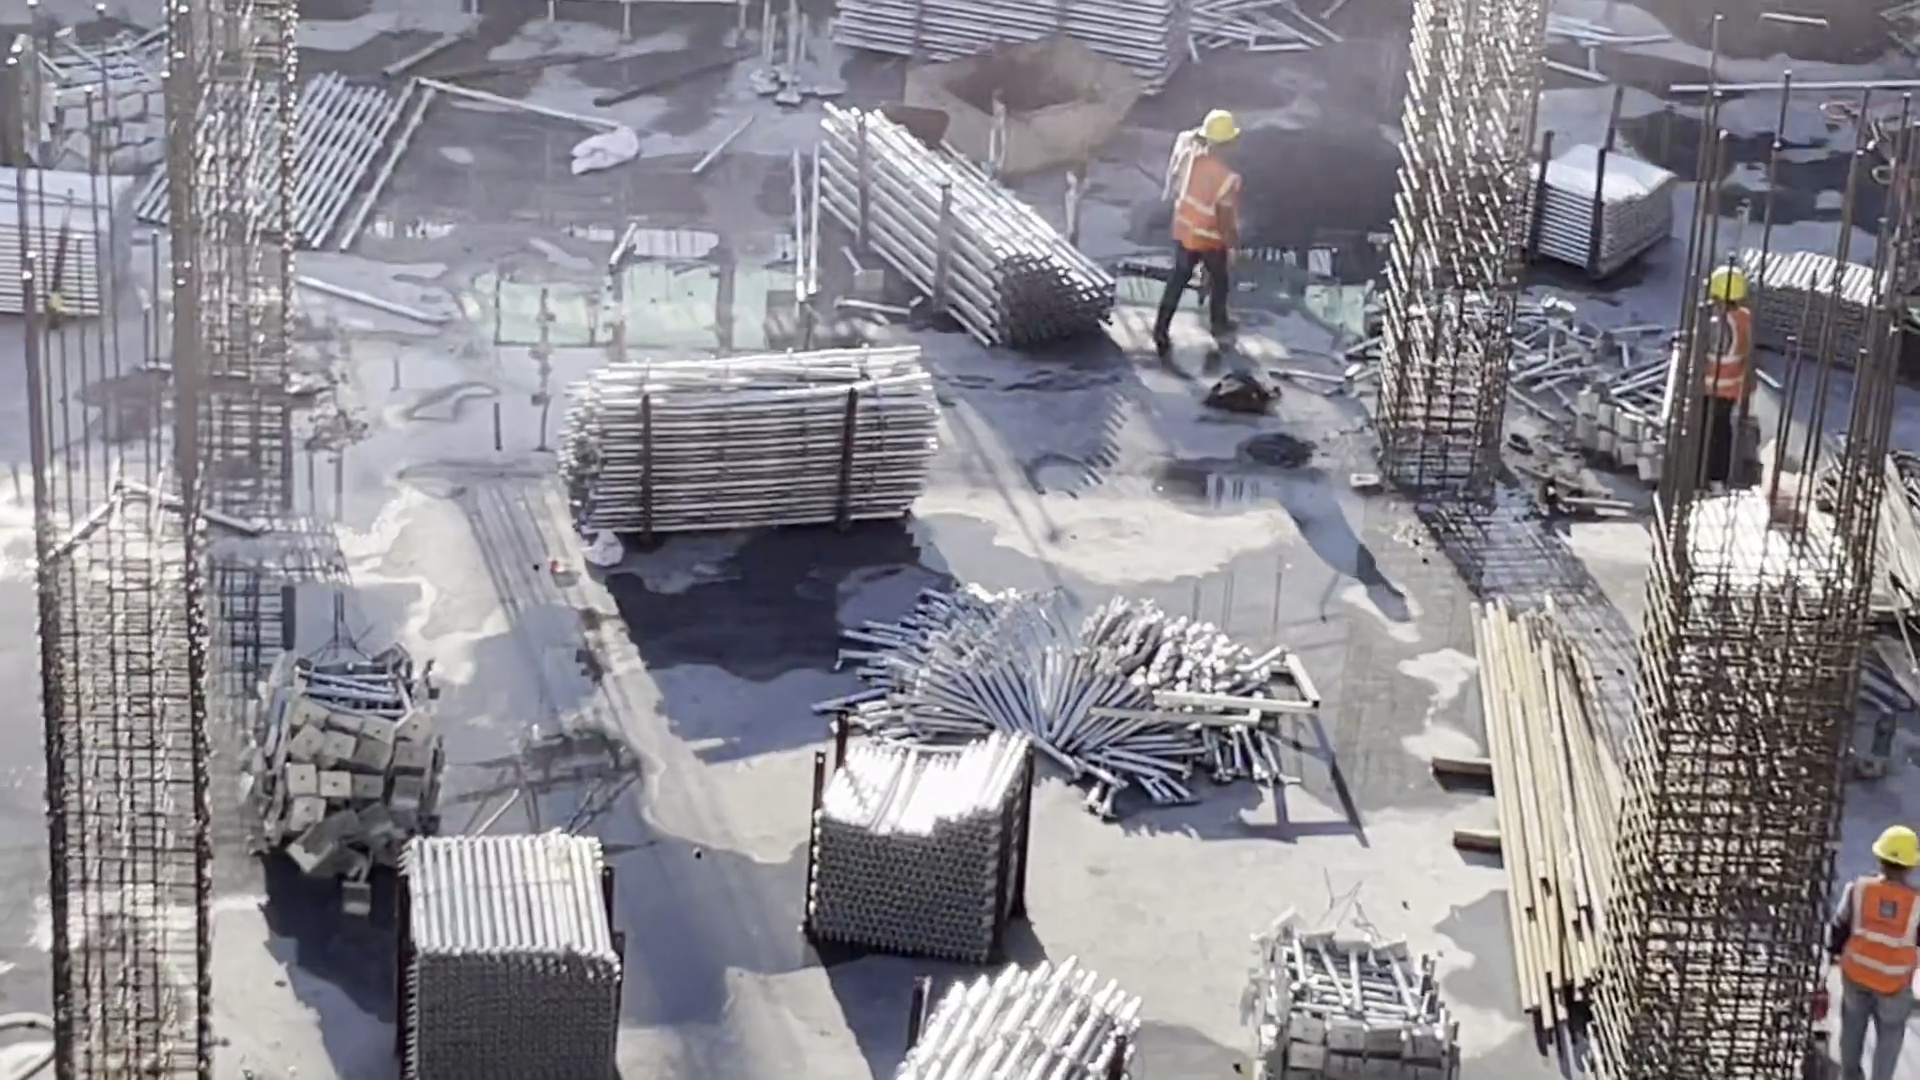helmet: (1871, 830, 1911, 874), (1708, 265, 1754, 302), (1200, 111, 1238, 150)
hopper: (895, 24, 1144, 175)
person: (1149, 105, 1247, 376), (1823, 815, 1920, 1066), (1681, 257, 1752, 500)
scaffold: (881, 574, 1272, 805), (816, 112, 1110, 346), (561, 357, 934, 537), (400, 832, 625, 1080), (800, 703, 1011, 955), (239, 670, 434, 887), (1248, 911, 1437, 1080), (886, 969, 1136, 1080), (21, 21, 187, 183), (1504, 116, 1676, 270), (1742, 222, 1920, 364), (1, 148, 144, 307), (1571, 347, 1704, 476)
vest: (1838, 869, 1920, 973), (1177, 158, 1232, 255), (1701, 312, 1747, 398)
